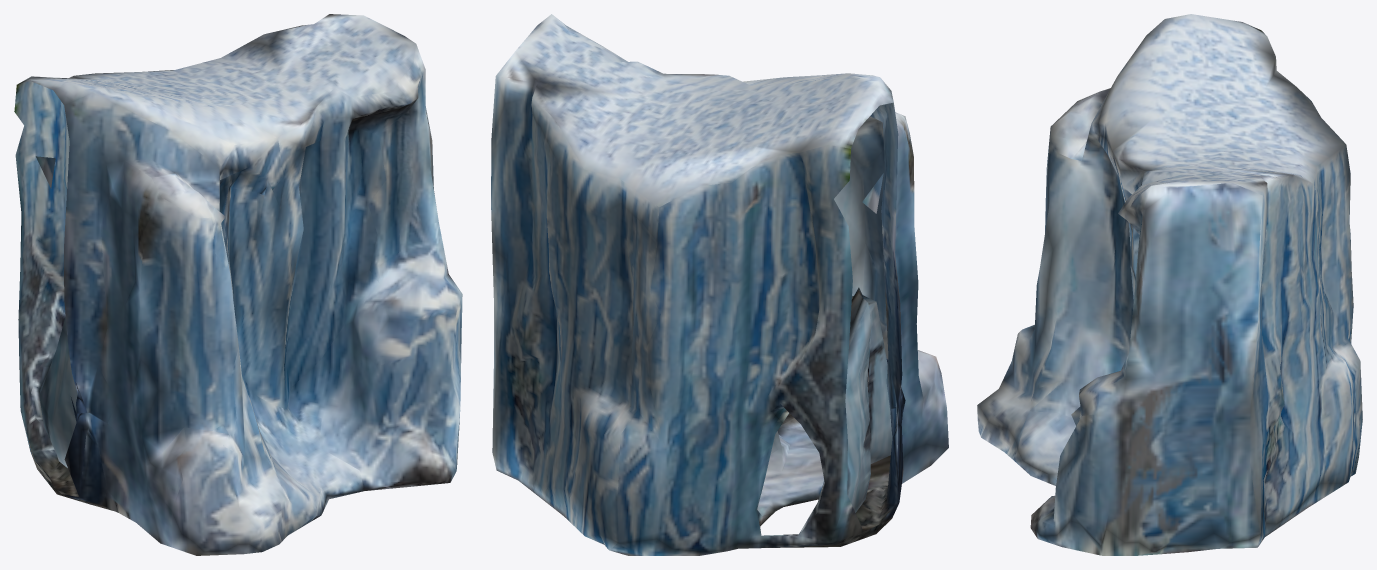
File: Glacier_Wall.fbx
The picture shows the model from 3 angles, left to right: view 1: azimuth 30°, elevation 25°; view 2: azimuth 150°, elevation 25°; view 3: azimuth 270°, elevation 25°; orthographic projection. The views are drawn at different scales.
Parts seen in each view (by area): view 1: Glacier_Wall_Mesh; view 2: Glacier_Wall_Mesh; view 3: Glacier_Wall_Mesh.
Part boxes in pixels (box(x1,y1,x2,y2)): Glacier_Wall_Mesh: box(14, 14, 462, 555); Glacier_Wall_Mesh: box(491, 14, 948, 555); Glacier_Wall_Mesh: box(977, 14, 1362, 555).
Bounding box in the file's own units: 6 × 6.59 × 5.91.
1 material, 1 textured.
